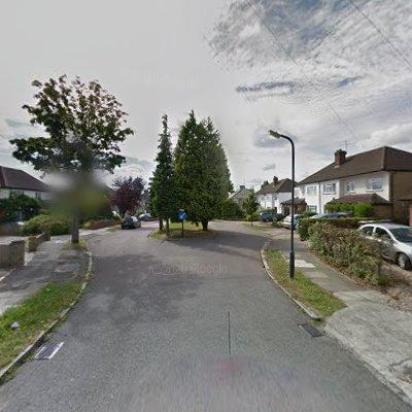stationary-car-offstreet: (353, 223, 411, 271), (306, 211, 350, 221), (283, 212, 307, 230), (260, 211, 275, 221)
stationary-car-onstreet: (120, 216, 140, 230)
